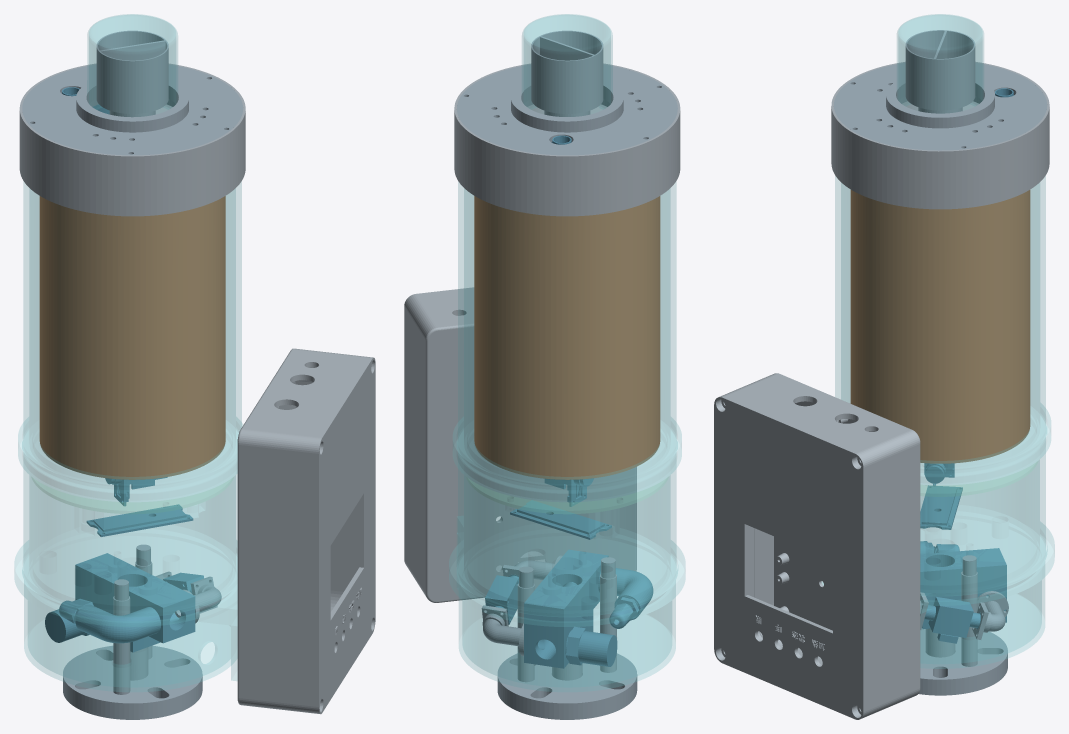
File: yldq-5-single-pipe-v2.glb
The picture shows the model from 3 angles, left to right: view 1: azimuth 30°, elevation 25°; view 2: azimuth 150°, elevation 25°; view 3: azimuth 270°, elevation 25°; orthographic projection. The views are drawn at different scales.
Parts seen in each view (by area): view 1: replacement_0029_outer_shell, replacement_0030_heater_frame, replacement_0004_support, replacement_0036_outer_shell, replacement_0009_outer_shell, replacement_0033_outer_shell, replacement_0014_support, replacement_0024_structure, replacement_0018_outer_shell, replacement_0007_outer_shell, replacement_0002_valve_or_sensor, replacement_0025_structure (+7 smaller); view 2: replacement_0029_outer_shell, replacement_0030_heater_frame, replacement_0004_support, replacement_0036_outer_shell, replacement_0009_outer_shell, replacement_0033_outer_shell, replacement_0014_support, replacement_0024_structure, replacement_0018_outer_shell, replacement_0007_outer_shell, replacement_0002_valve_or_sensor, replacement_0025_structure (+12 smaller); view 3: replacement_0004_support, replacement_0029_outer_shell, replacement_0030_heater_frame, replacement_0036_outer_shell, replacement_0014_support, replacement_0009_outer_shell, replacement_0024_structure, replacement_0033_outer_shell, replacement_0018_outer_shell, replacement_0037_structure, replacement_0007_outer_shell, replacement_0025_structure (+8 smaller).
Boxes of the visible parts, bbox=[...] form: replacement_0029_outer_shell: bbox=[23, 182, 241, 489]; replacement_0030_heater_frame: bbox=[39, 196, 225, 479]; replacement_0004_support: bbox=[237, 348, 375, 714]; replacement_0036_outer_shell: bbox=[23, 455, 237, 615]; replacement_0009_outer_shell: bbox=[14, 525, 237, 680]; replacement_0033_outer_shell: bbox=[24, 581, 236, 691]; replacement_0014_support: bbox=[19, 63, 245, 216]; replacement_0024_structure: bbox=[22, 64, 243, 155]; replacement_0018_outer_shell: bbox=[87, 14, 177, 116]; replacement_0007_outer_shell: bbox=[18, 417, 242, 535]; replacement_0002_valve_or_sensor: bbox=[75, 553, 195, 652]; replacement_0025_structure: bbox=[63, 645, 202, 719]; replacement_0029_outer_shell: bbox=[458, 182, 676, 489]; replacement_0030_heater_frame: bbox=[474, 196, 660, 479]; replacement_0004_support: bbox=[404, 287, 636, 602]; replacement_0036_outer_shell: bbox=[458, 453, 676, 615]; replacement_0009_outer_shell: bbox=[449, 516, 685, 626]; replacement_0033_outer_shell: bbox=[459, 581, 675, 691]; replacement_0014_support: bbox=[454, 63, 680, 216]; replacement_0024_structure: bbox=[457, 64, 677, 155]; replacement_0018_outer_shell: bbox=[522, 14, 612, 116]; replacement_0007_outer_shell: bbox=[453, 417, 681, 538]; replacement_0002_valve_or_sensor: bbox=[524, 549, 653, 668]; replacement_0025_structure: bbox=[497, 653, 637, 719]; replacement_0004_support: bbox=[714, 373, 920, 719]; replacement_0029_outer_shell: bbox=[835, 176, 1045, 472]; replacement_0030_heater_frame: bbox=[850, 190, 1030, 463]; replacement_0036_outer_shell: bbox=[920, 438, 1045, 595]; replacement_0014_support: bbox=[831, 62, 1049, 209]; replacement_0009_outer_shell: bbox=[821, 505, 1054, 613]; replacement_0024_structure: bbox=[834, 63, 1047, 150]; replacement_0033_outer_shell: bbox=[920, 562, 1044, 668]; replacement_0018_outer_shell: bbox=[897, 14, 983, 113]; replacement_0037_structure: bbox=[905, 30, 975, 110]; replacement_0007_outer_shell: bbox=[920, 404, 1050, 533]; replacement_0025_structure: bbox=[919, 628, 1007, 695].
Size of the model in its own units: 2.32 by 4.79 by 2.32.
